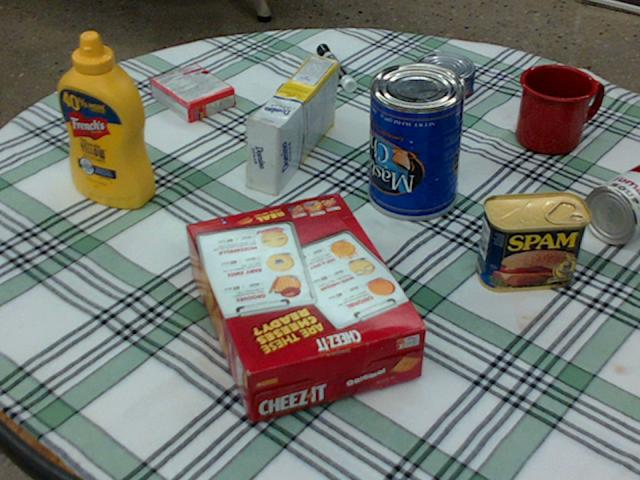cracker_box: (184, 193, 426, 423)
gelatin_box: (150, 64, 234, 122)
large_marker: (317, 43, 356, 91)
master_chef_can: (365, 62, 467, 218)
mug: (516, 64, 599, 154)
mustard_bottle: (58, 32, 154, 207)
potted_meat_can: (476, 191, 589, 291)
sugar_box: (246, 54, 338, 195)
tomato_soup_can: (584, 165, 639, 243)
tuna_fish_can: (412, 51, 476, 101)
